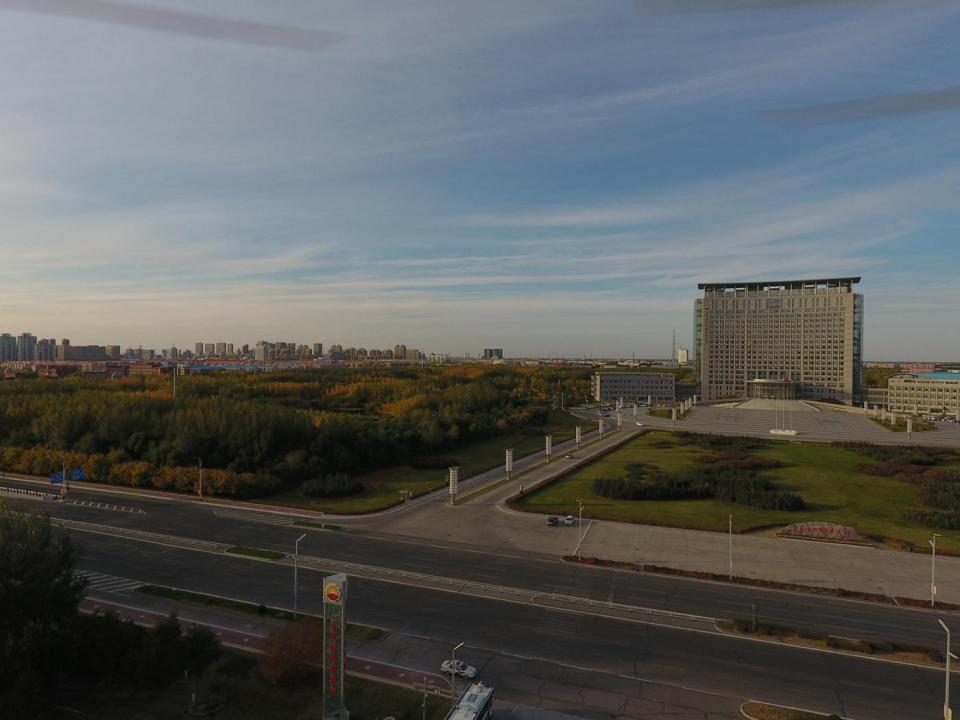bus: (444, 680, 494, 720)
car: (439, 658, 476, 678), (546, 516, 559, 526), (564, 514, 574, 526), (565, 452, 574, 458), (636, 422, 644, 427)
